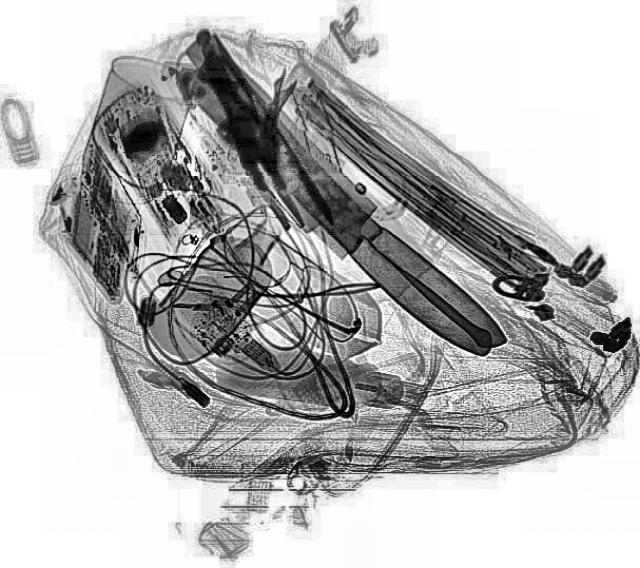Knife: (155, 52, 512, 372), (166, 49, 516, 367)
